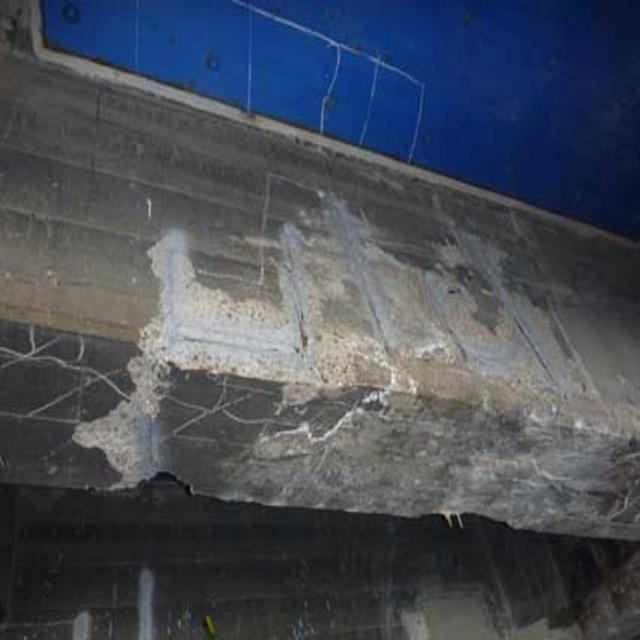spalling: (84, 195, 633, 536)
